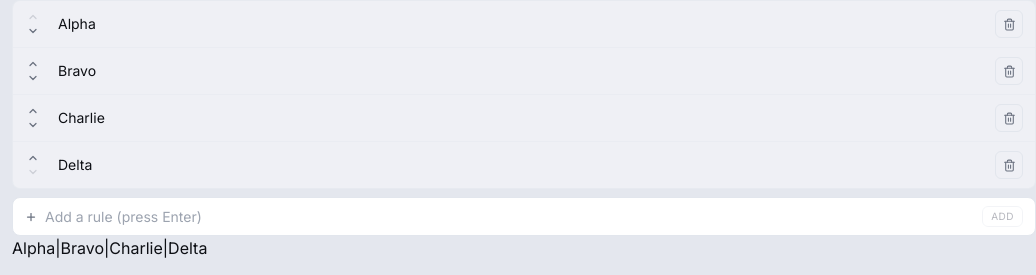
Test: (1) arrows — adjacent swap, end-guards, precedent aria, frozen rows movable › renders Move up/down per row; top-up and bottom-down disabled; clicks swap adjacents
Expected: the button named "Move Alpha up" is disabled, [25,10,41,24]
Expected: the button named "Move Alpha down" is enabled, [25,24,41,38]
Click the button named "Move Bravo up". click: coordinates (33, 64)
box: [25,57,41,71]
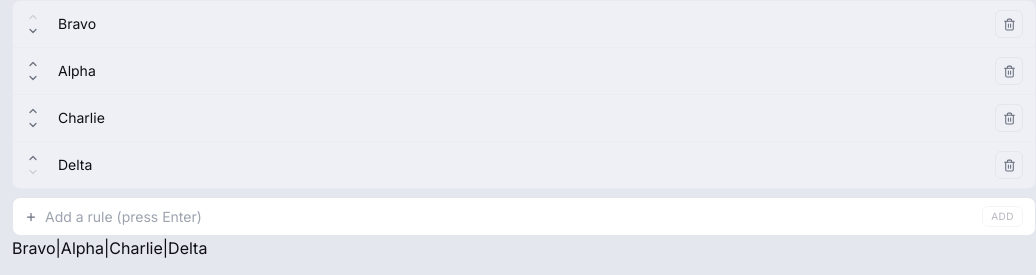
Result: the text with test id "order" reads "Bravo|Alpha|Charlie|Delta" at [12,238,207,258]
Click the button named "Move Charlie down". click: coordinates (33, 125)
box: [25,118,41,132]
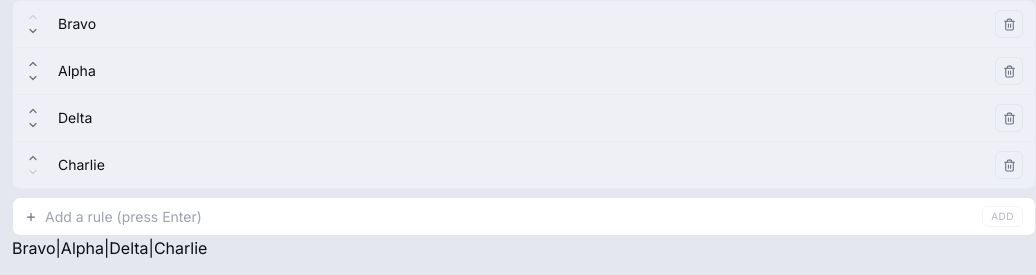
Expected: the button named "Move Bravo up" is disabled, [25,10,41,24]
Result: the text with test id "order" reads "Bravo|Alpha|Delta|Charlie" at [12,238,207,258]
